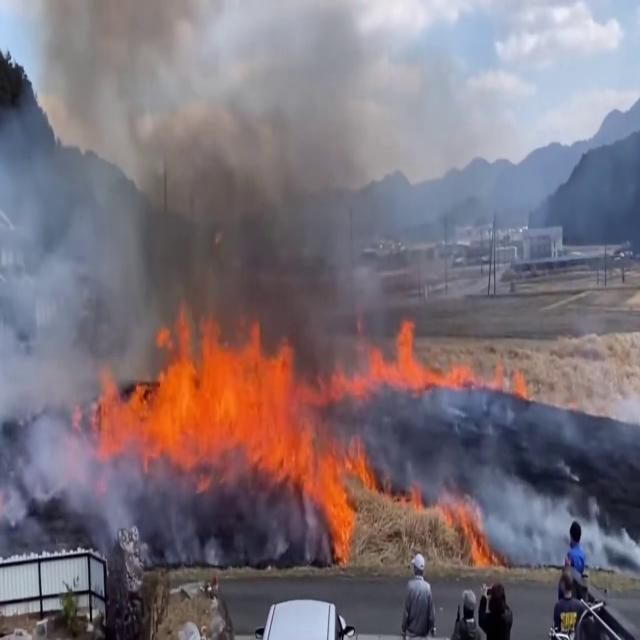Fire: (90, 304, 378, 542), (362, 315, 532, 405), (384, 475, 501, 571)
Smoke: (12, 0, 394, 347), (0, 66, 132, 544)
